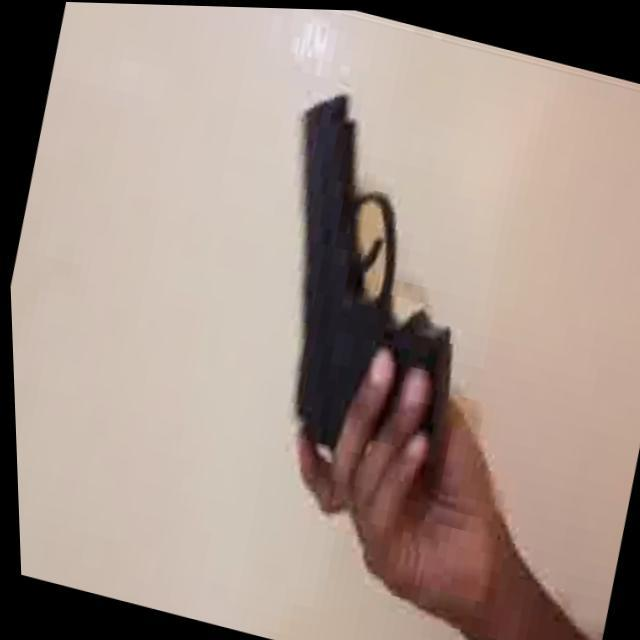weapon: (222, 78, 512, 500)
